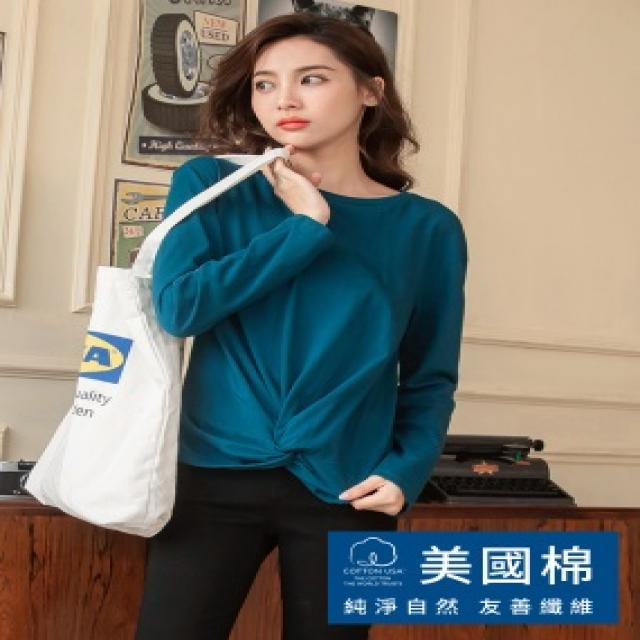plain: (140, 153, 469, 500)
